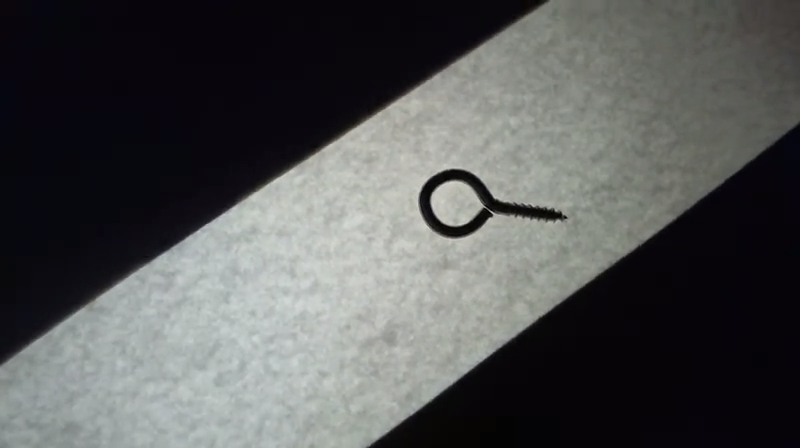O001: (416, 166, 569, 240)
